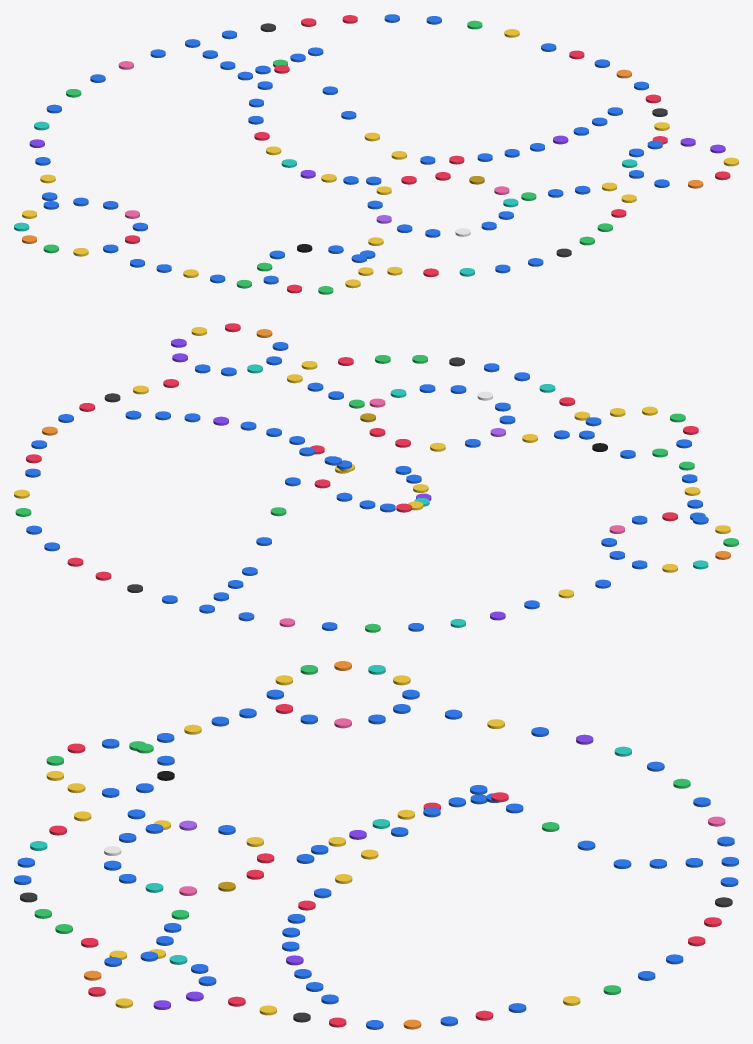
Rendered from ilha-casas.glb.
3 views of the same model, one above another, from view 1: azimuth 30°, elevation 25°; view 2: azimuth 150°, elevation 25°; view 3: azimuth 270°, elevation 25° (orthographic). The views are drawn at different scales.
Size of the model in its own units: 86.92 by 9.3 by 74.85.
